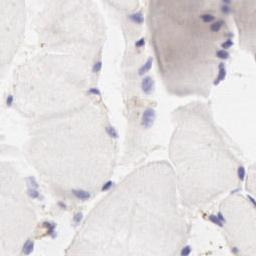nucleus: (142, 109, 157, 129), (141, 77, 156, 93), (138, 58, 152, 74), (72, 189, 90, 200), (214, 69, 226, 85), (106, 126, 119, 139), (130, 12, 143, 24), (210, 214, 223, 226), (72, 213, 82, 228), (216, 50, 232, 59), (26, 190, 42, 199), (23, 241, 34, 254), (237, 166, 245, 181), (102, 180, 112, 191), (211, 21, 222, 31), (28, 176, 38, 187), (5, 95, 14, 107), (248, 195, 256, 208), (87, 88, 101, 95), (202, 14, 214, 22), (221, 40, 233, 48), (91, 62, 101, 71), (135, 38, 145, 47), (218, 213, 225, 222), (182, 246, 191, 253), (222, 6, 230, 13), (50, 224, 55, 235), (231, 247, 239, 253), (232, 188, 240, 194), (57, 202, 65, 207), (219, 64, 225, 68), (224, 1, 233, 3)
positive_cell: (37, 222, 56, 240)
